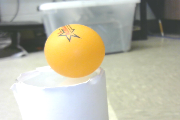PingPongBall: (45, 24, 104, 78)
